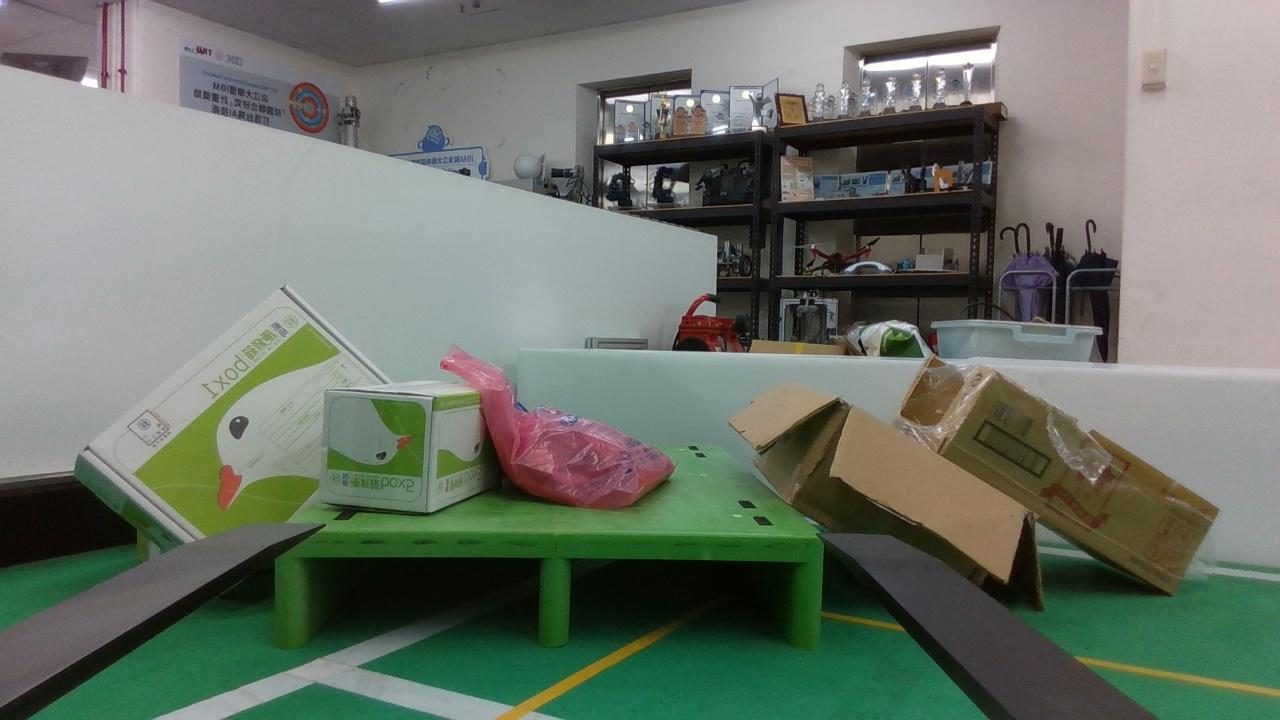Pallet: (273, 529, 826, 649)
